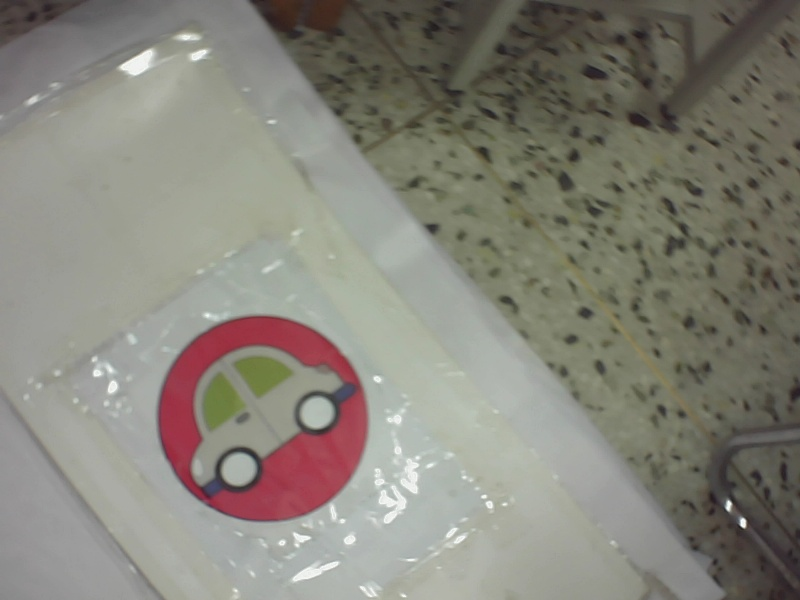areaC: (151, 314, 373, 522)
